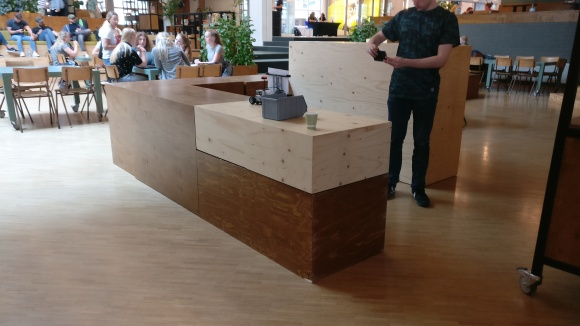cup: (304, 110, 318, 129)
tray: (260, 91, 309, 122)
